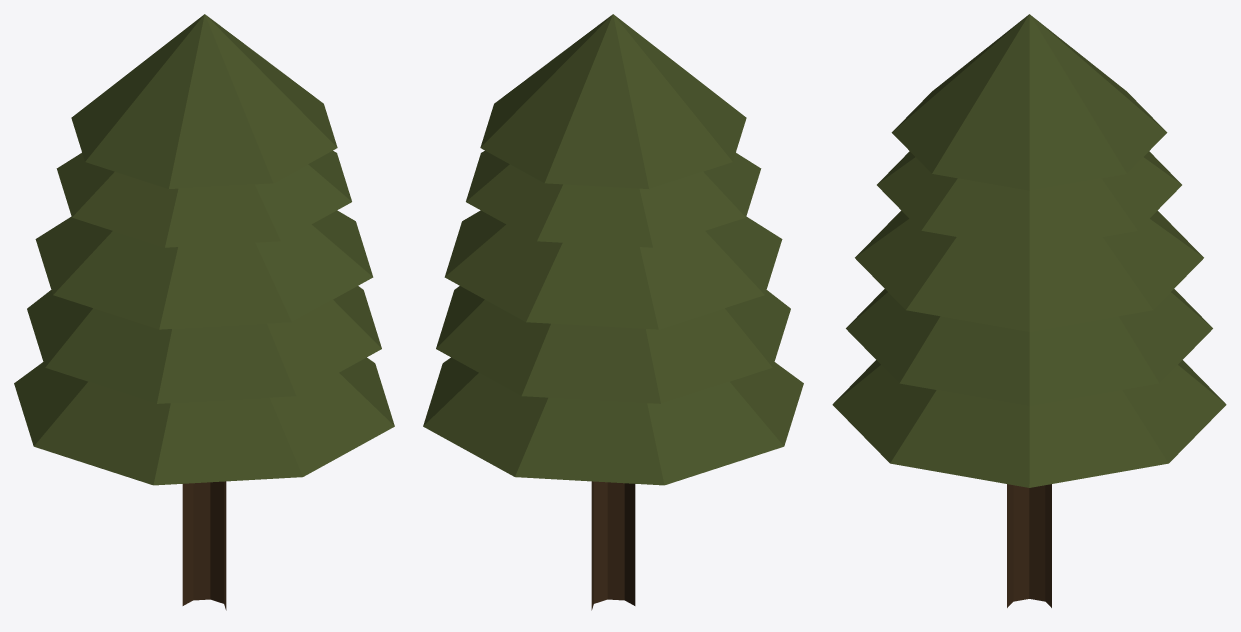
3 views of the same model, side by side, from view 1: azimuth 30°, elevation 25°; view 2: azimuth 150°, elevation 25°; view 3: azimuth 270°, elevation 25° (orthographic).
Visible parts, largest first — view 1: Circle.002; view 2: Circle.002; view 3: Circle.002.
Part boxes in pixels (x1=…): Circle.002: x1=14, y1=14, x2=394, y2=610; Circle.002: x1=423, y1=14, x2=803, y2=610; Circle.002: x1=832, y1=14, x2=1226, y2=607.
Size of the model in its own units: 249 by 415 by 249.
